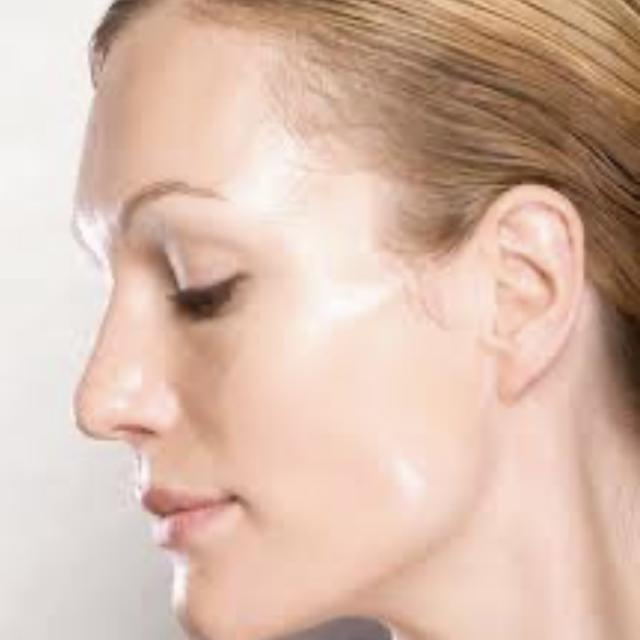Oily-Skin: (220, 89, 336, 295), (261, 328, 372, 528), (88, 310, 204, 461), (381, 336, 444, 550), (83, 108, 197, 189)
